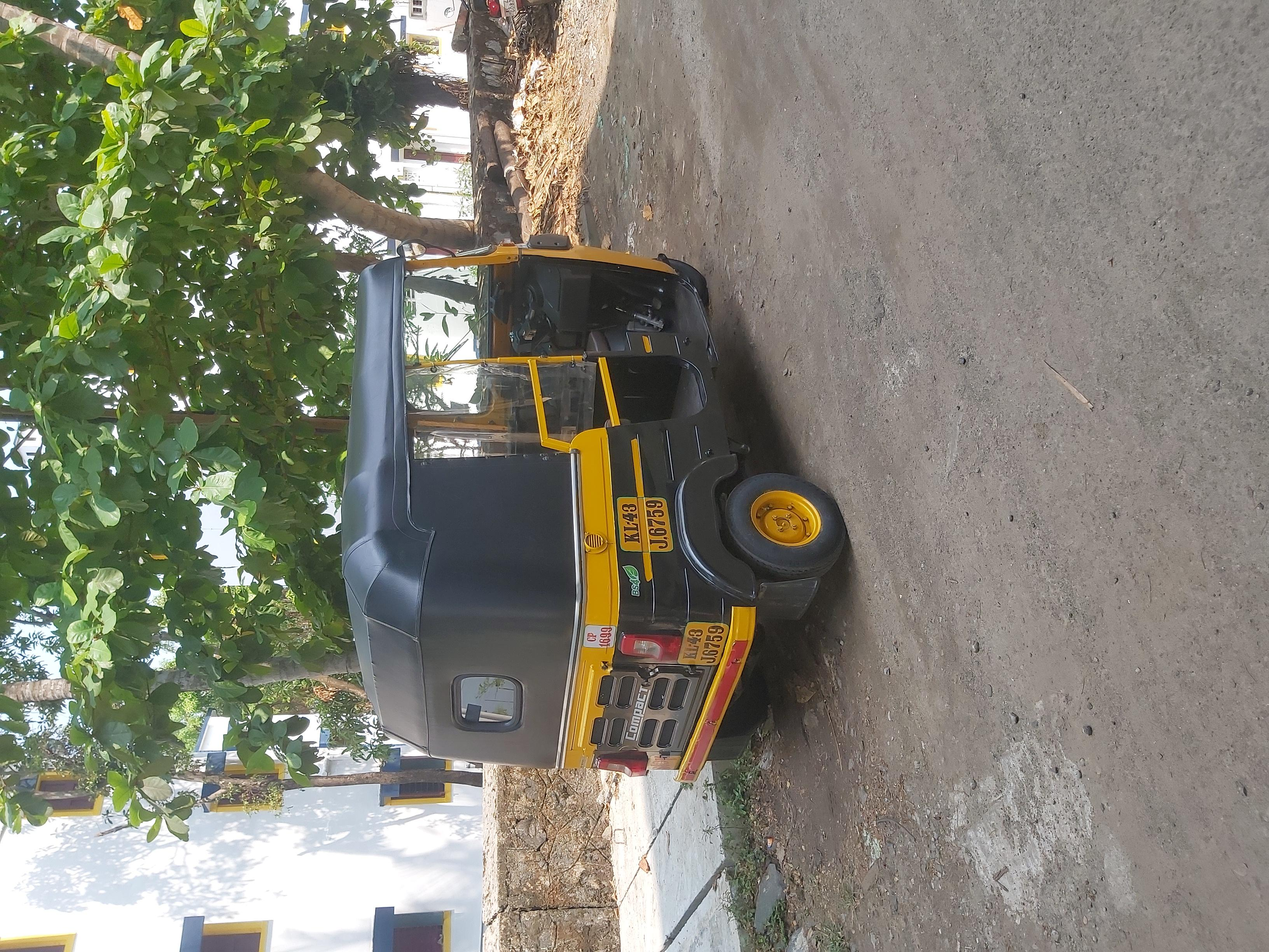Auto: (223, 252, 982, 648)
